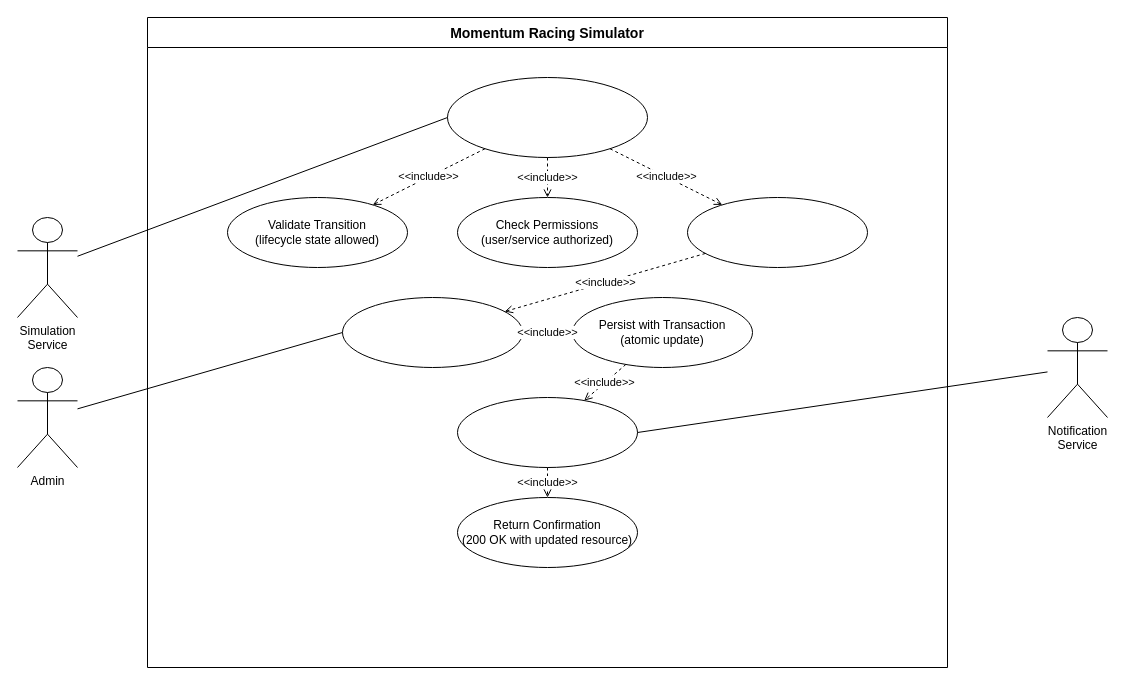
Some shapes in this 1125 by 685 pixel diagram are drawn without their labels. The shapes that lost their labels are listed below. From the top down, each one's centre as x and y in pixels, then its label:
At point 547,117: "Update Race Status".
At point 777,232: "Update races.status (scheduled→in-progress→complete)".
At point 432,332: "Record Timestamp (status_changed_at)".
At point 547,432: "Emit Lifecycle Events (notify subscribers)".
